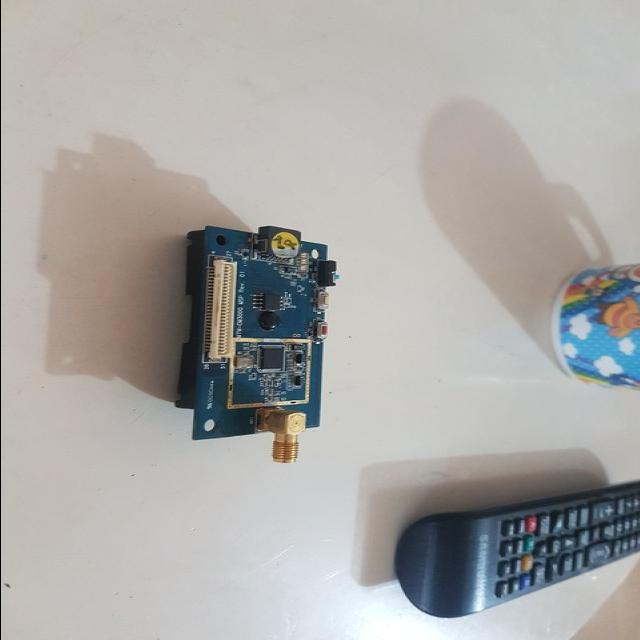TelosB: (175, 226, 336, 464)
